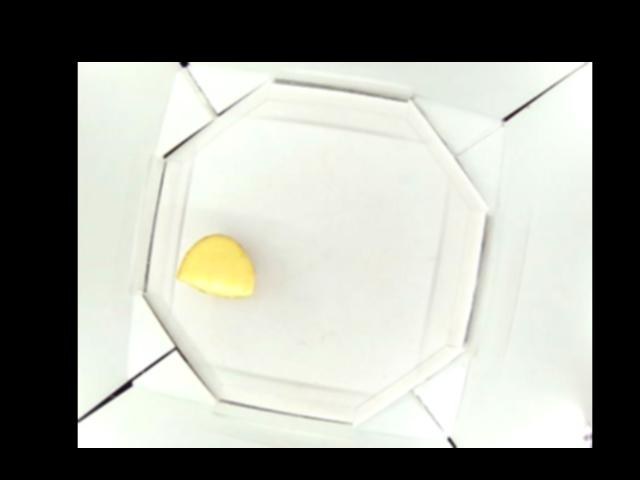Potato: (178, 234, 253, 296)
